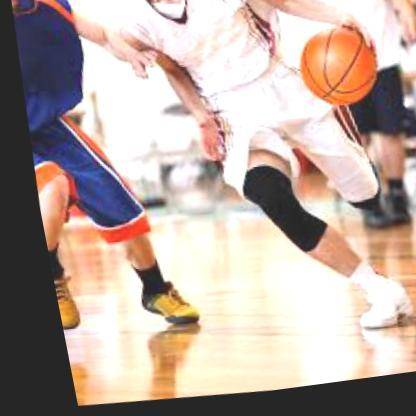basketball: (287, 29, 380, 119)
